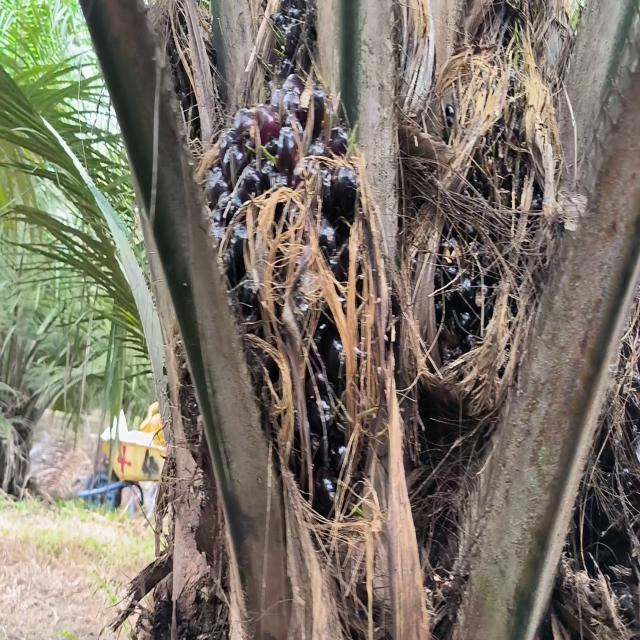palm-oil: (198, 80, 364, 416)
